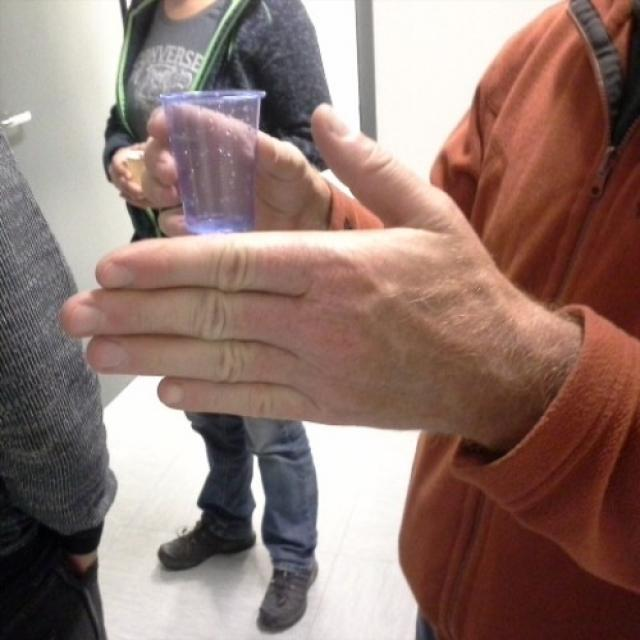paper: (56, 100, 486, 433)
